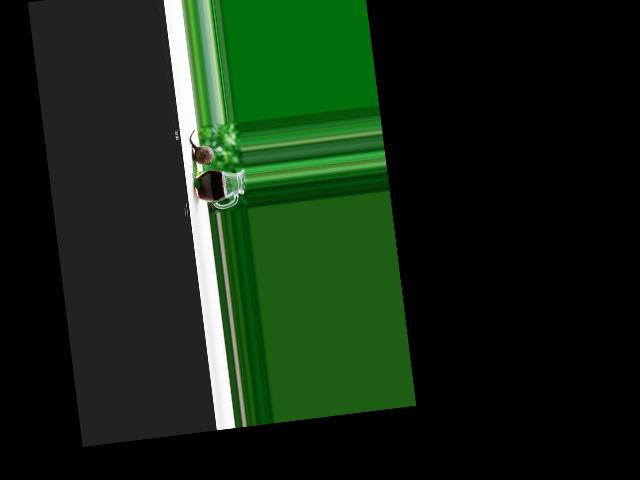beet: (188, 128, 214, 166)
